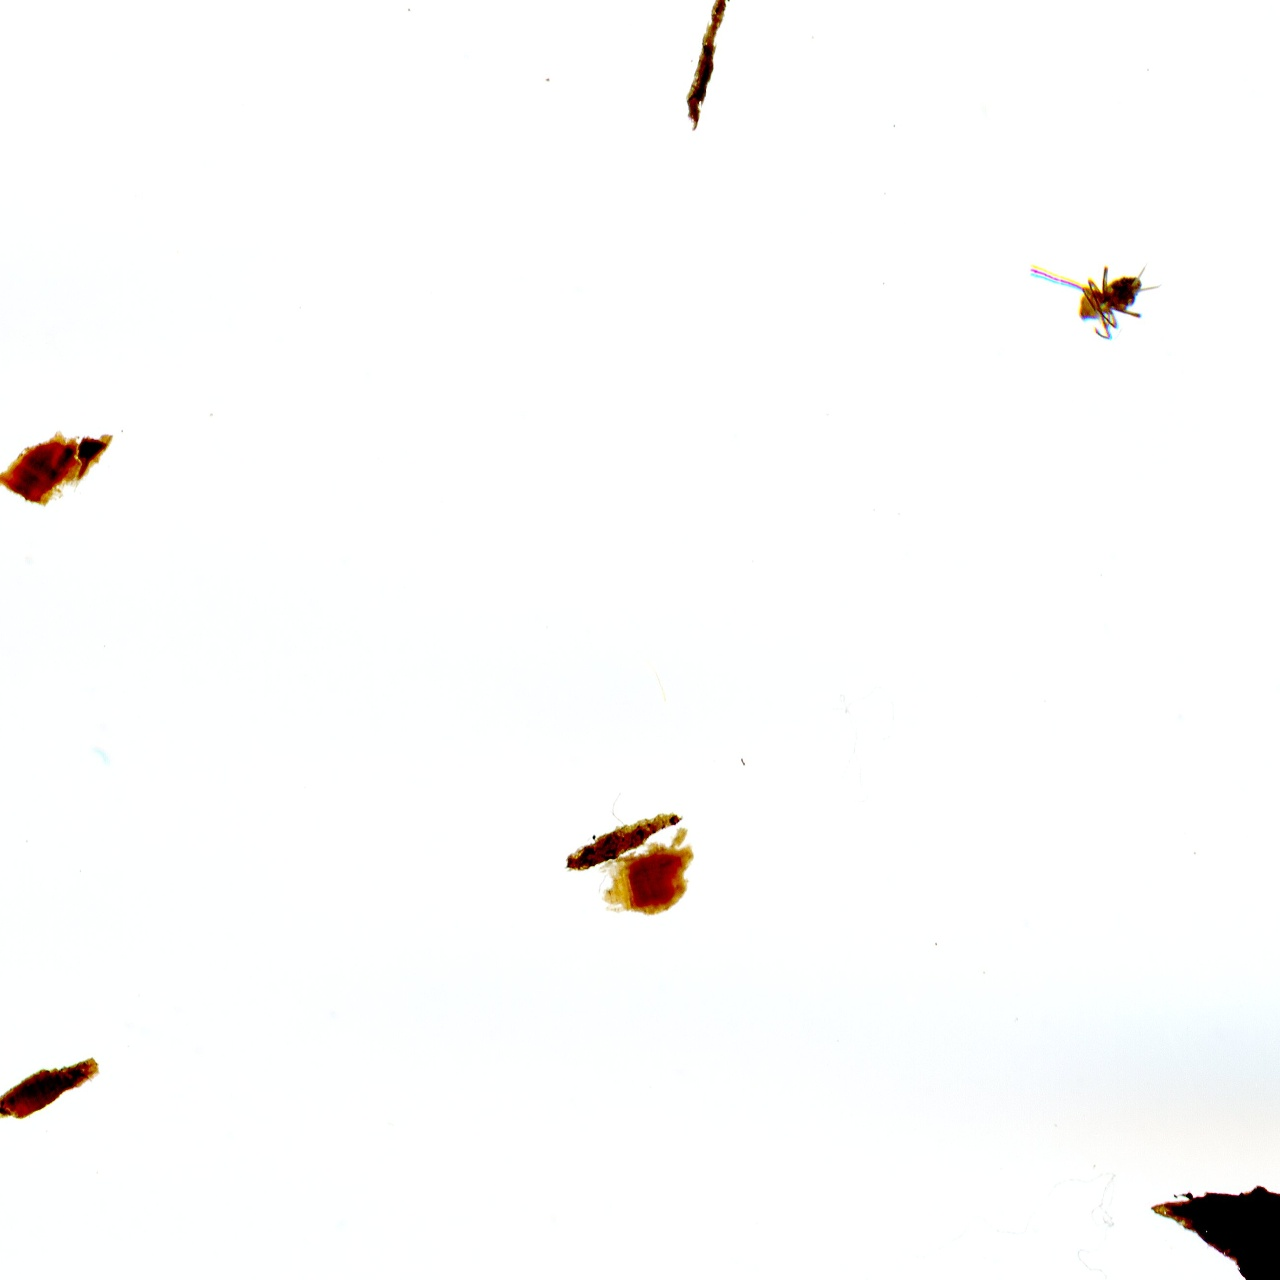arthropod: (1024, 246, 1163, 350)
